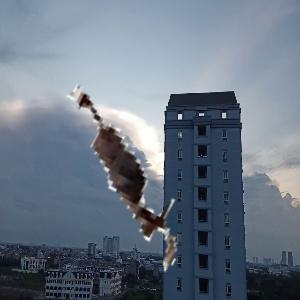drone: (6, 51, 233, 278)
